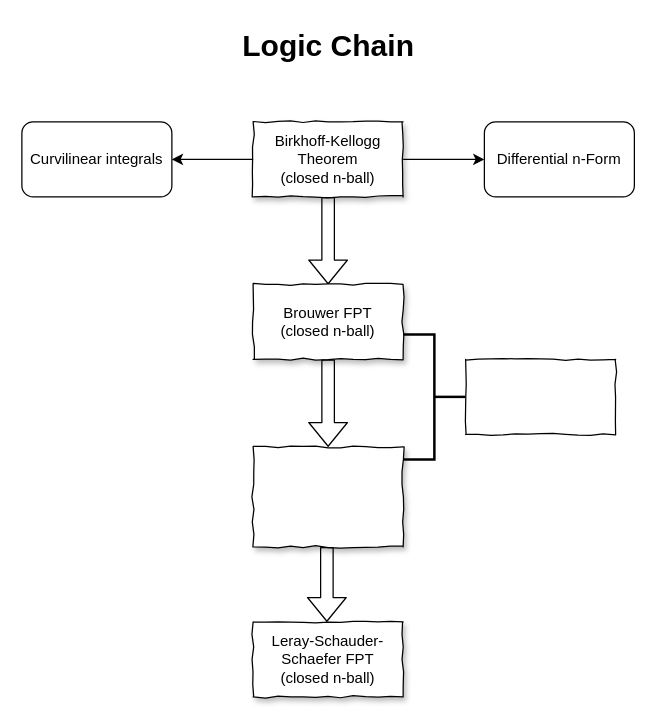
This 656x728 diagram has some shape labels left out. The centre of each missing label's shape, as x and y in pixels:
"Brouwer FPT (homeomorphic image of a closed n-ball)" goes at (329,498).
"no-retraction theorem" goes at (540,396).
